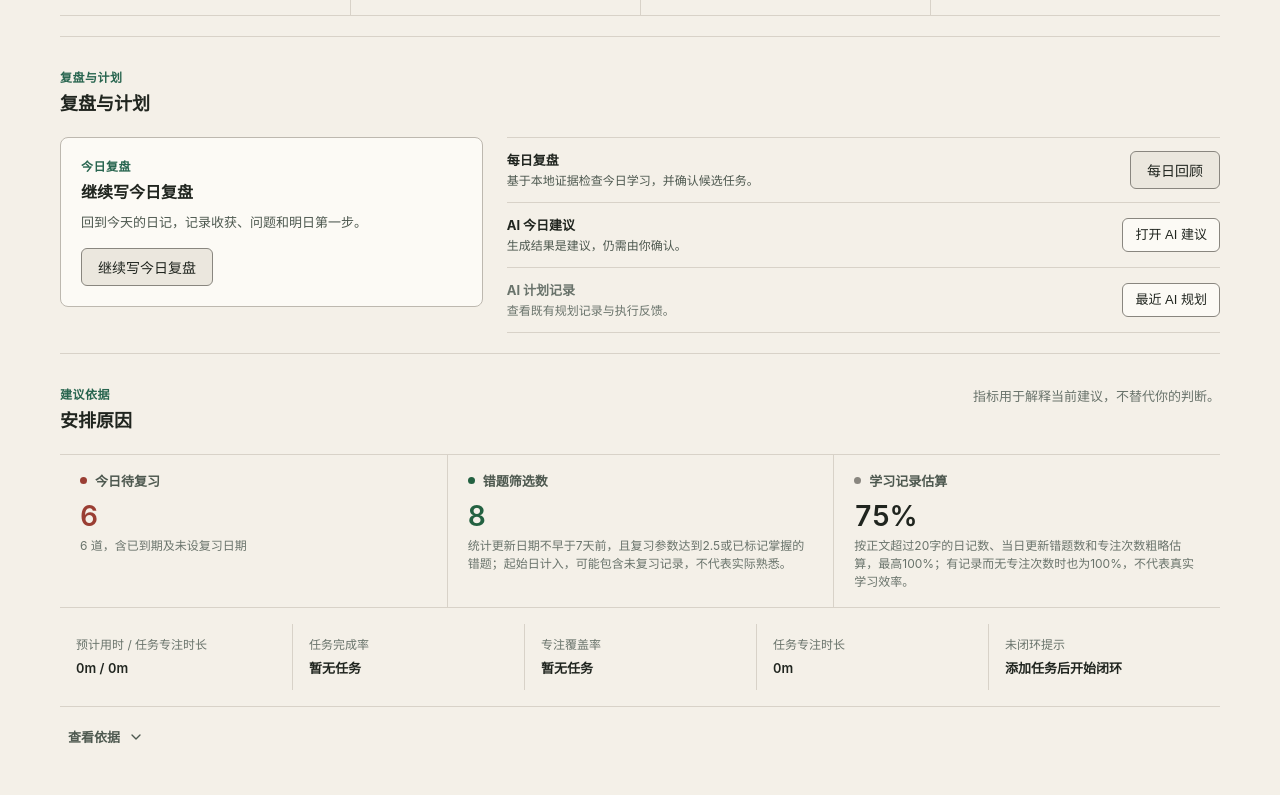
it: HomeDashboard Component - Commander Engine › toggles expansion layer details and shows the decision explanation
This screenshot has width=1280, height=795.
(page scrolled)
Click the button with test id "dashboard-details-toggle": (106, 736) [60, 718, 152, 754]
(page scrolled)
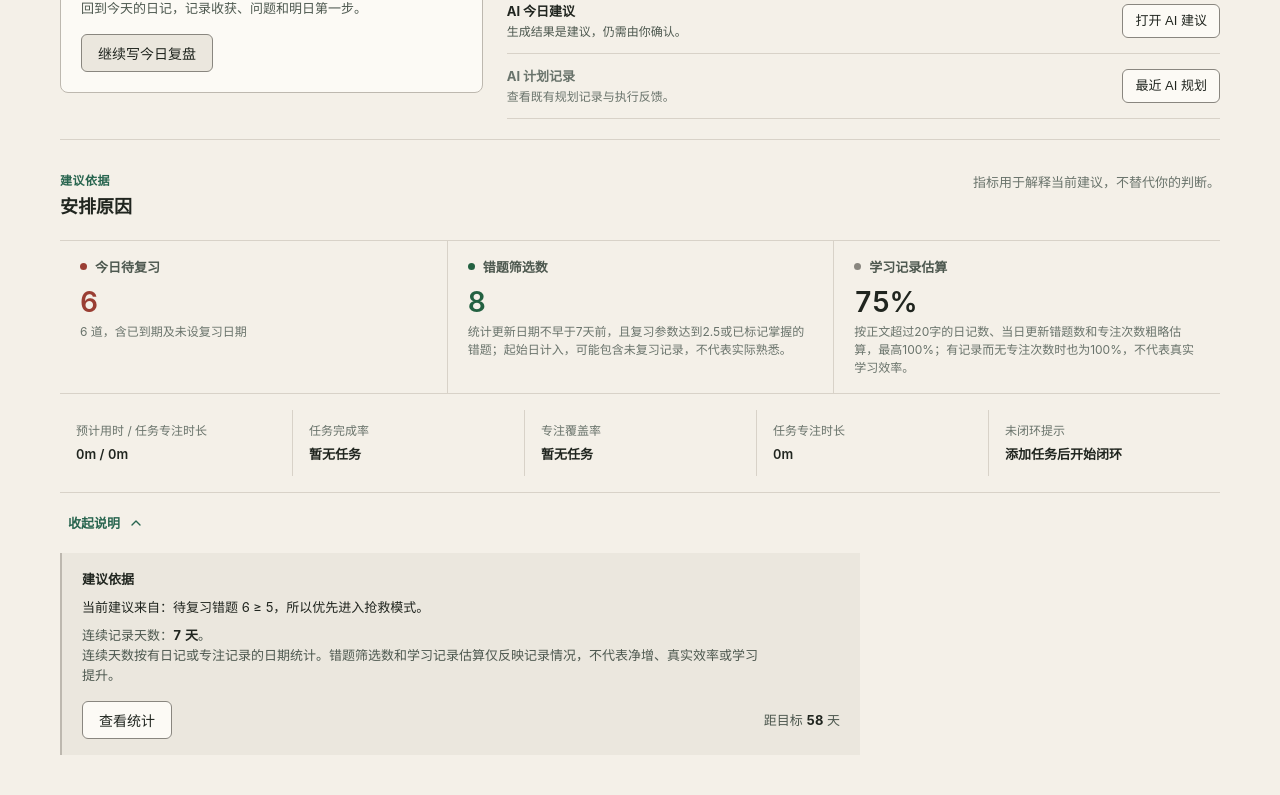
Check: the button with test id "dashboard-details-toggle" is expanded, box [60, 504, 152, 540]
Check: the element with id "today-action-system-evidence" is shown, box [60, 552, 860, 754]
Check: the text with test id "dashboard-state-explanation" shows "待复习错题 6 ≥ 5", box [82, 598, 429, 614]
